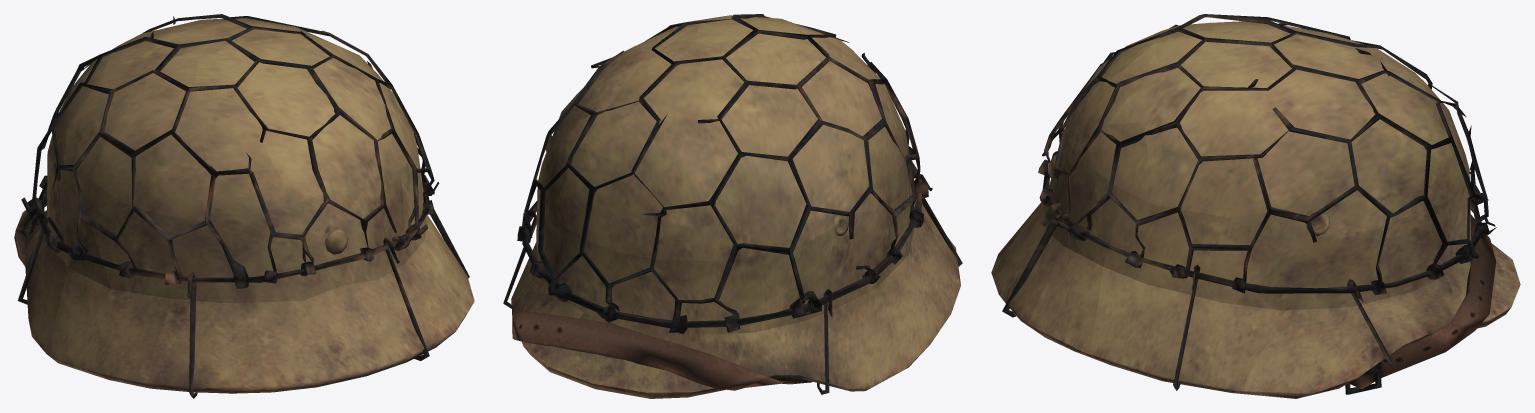
File: AntiqueHelmet_Ground.fbx
3 renders of one model, left to right at view 1: azimuth 30°, elevation 25°; view 2: azimuth 150°, elevation 25°; view 3: azimuth 270°, elevation 25°, orthographic.
Visible parts, largest first — view 1: AntiqueHelmet; view 2: AntiqueHelmet; view 3: AntiqueHelmet.
Boxes of the visible parts, x1,y1,x2,y2 form: AntiqueHelmet: (14,14,474,398); AntiqueHelmet: (503,14,962,398); AntiqueHelmet: (991,14,1520,398).
Bounding box in the file's own units: 0.1437 × 0.1034 × 0.1736.
